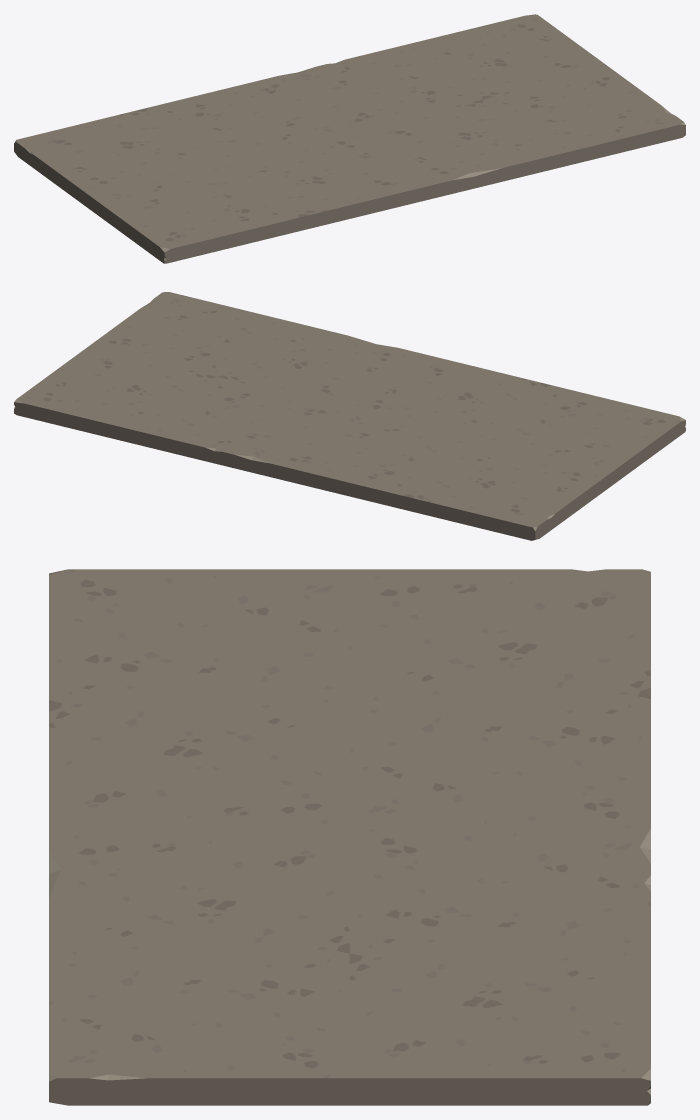
Rendered from SM_Bld_Concrete_Floor_04.fbx.
3 renders of one model, top to bottom at view 1: azimuth 30°, elevation 25°; view 2: azimuth 150°, elevation 25°; view 3: azimuth 270°, elevation 25°, orthographic. The views are drawn at different scales.
Visible parts, largest first — view 1: SM_Bld_Concrete_Floor_04; view 2: SM_Bld_Concrete_Floor_04; view 3: SM_Bld_Concrete_Floor_04.
Boxes of the visible parts, left/top/right/bottom form: SM_Bld_Concrete_Floor_04: left=14, top=14, right=685, bottom=263; SM_Bld_Concrete_Floor_04: left=14, top=292, right=685, bottom=540; SM_Bld_Concrete_Floor_04: left=49, top=569, right=650, bottom=1105.
Bounding box in the file's own units: 2000 × 50 × 1000.
